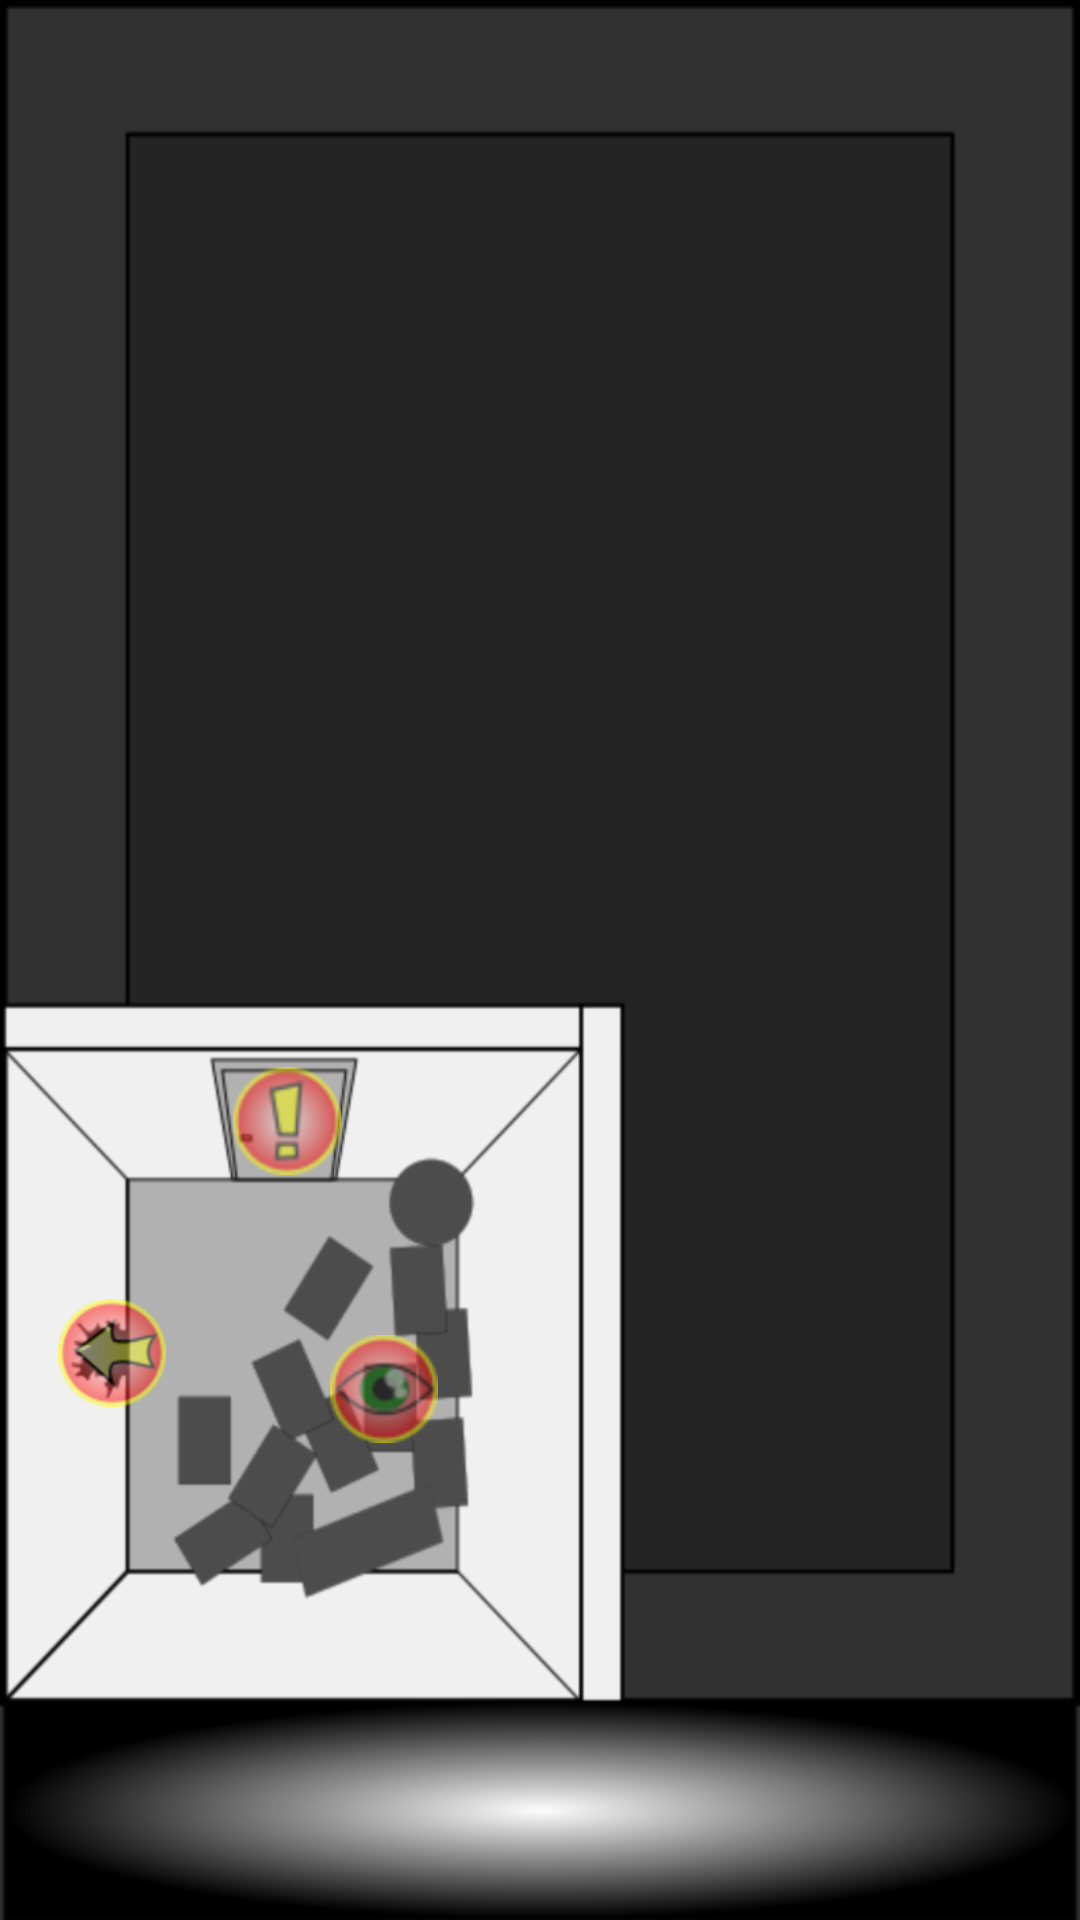

Point at icon controls on the screen. Image size 1080w x 1920h, points as (x=x, y=y).
arrow: (x=112, y=1353)
buttonvue: (x=384, y=1389)
